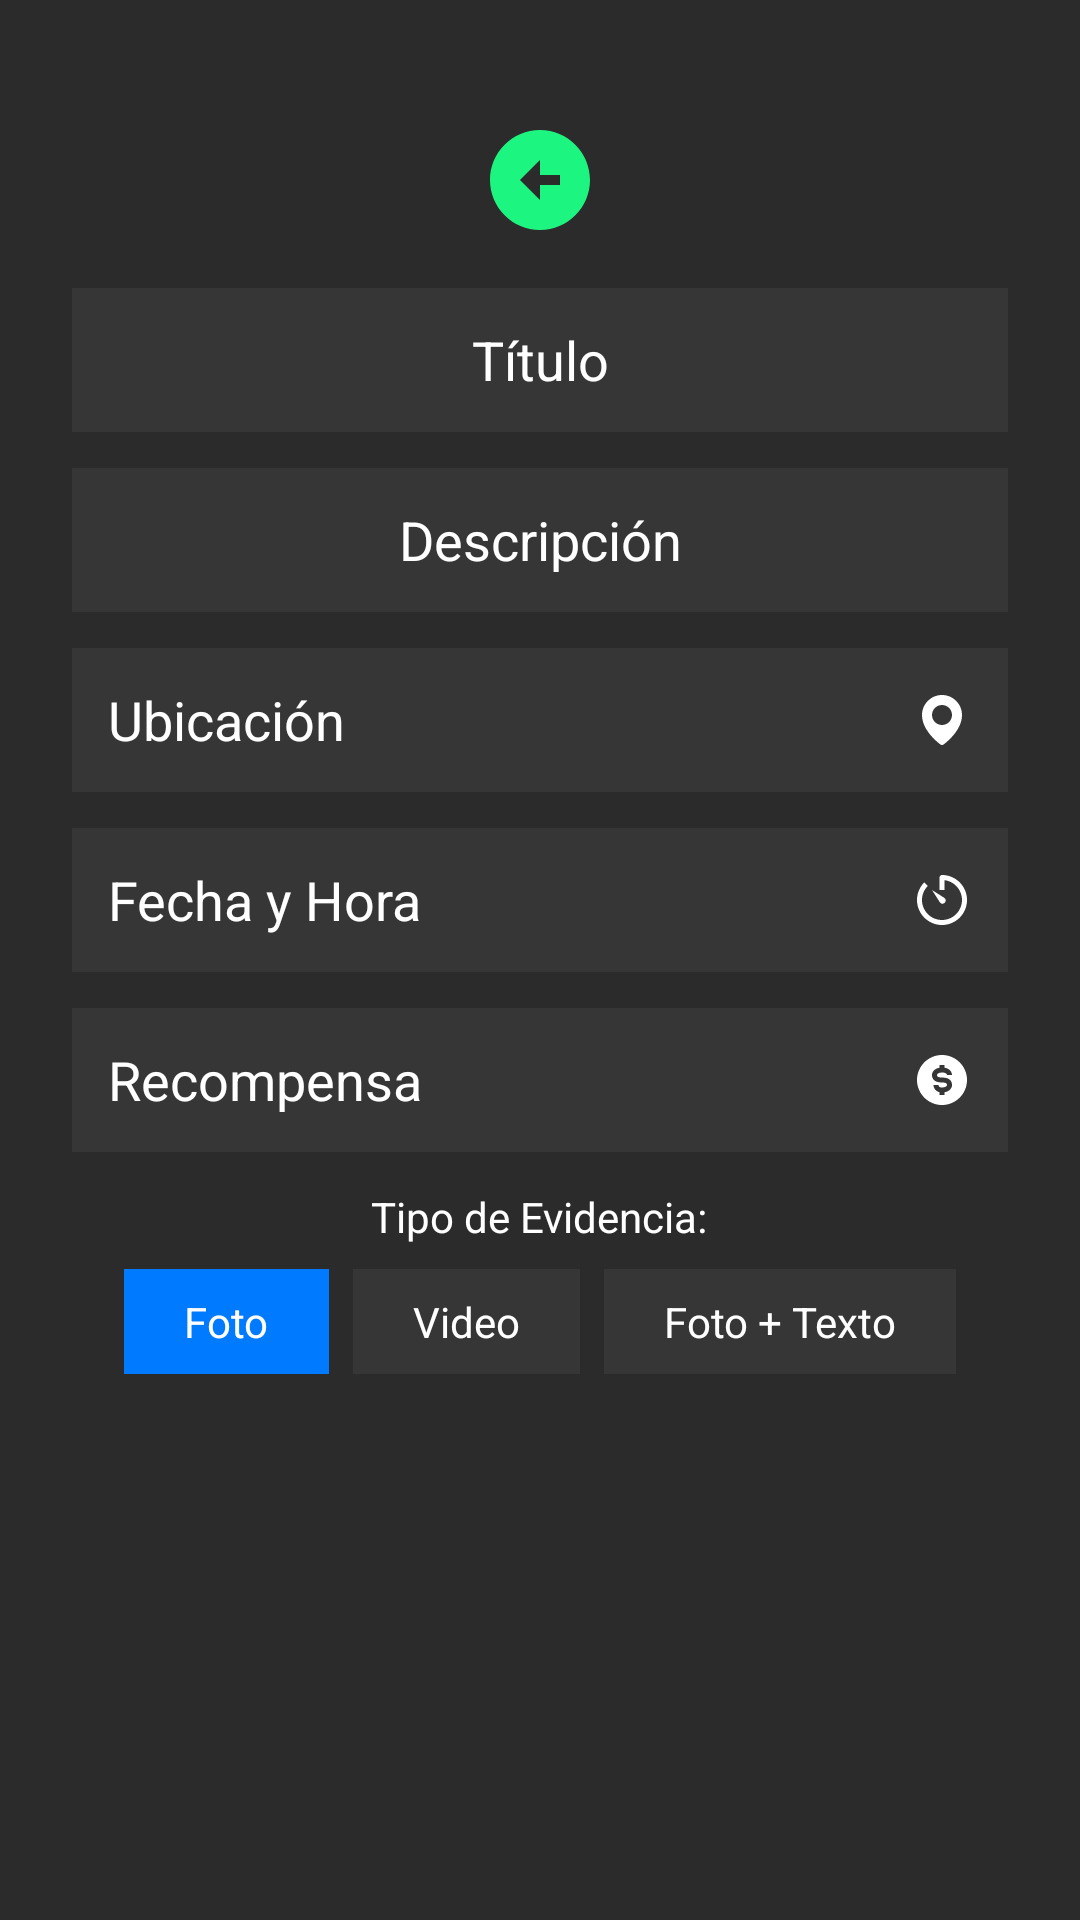

Screen size 1080*1920. Icon name, then its center in pixels as (x,y):
earnings: (942,1080)
return: (540,180)
timer: (942,900)
ubication: (942,720)
